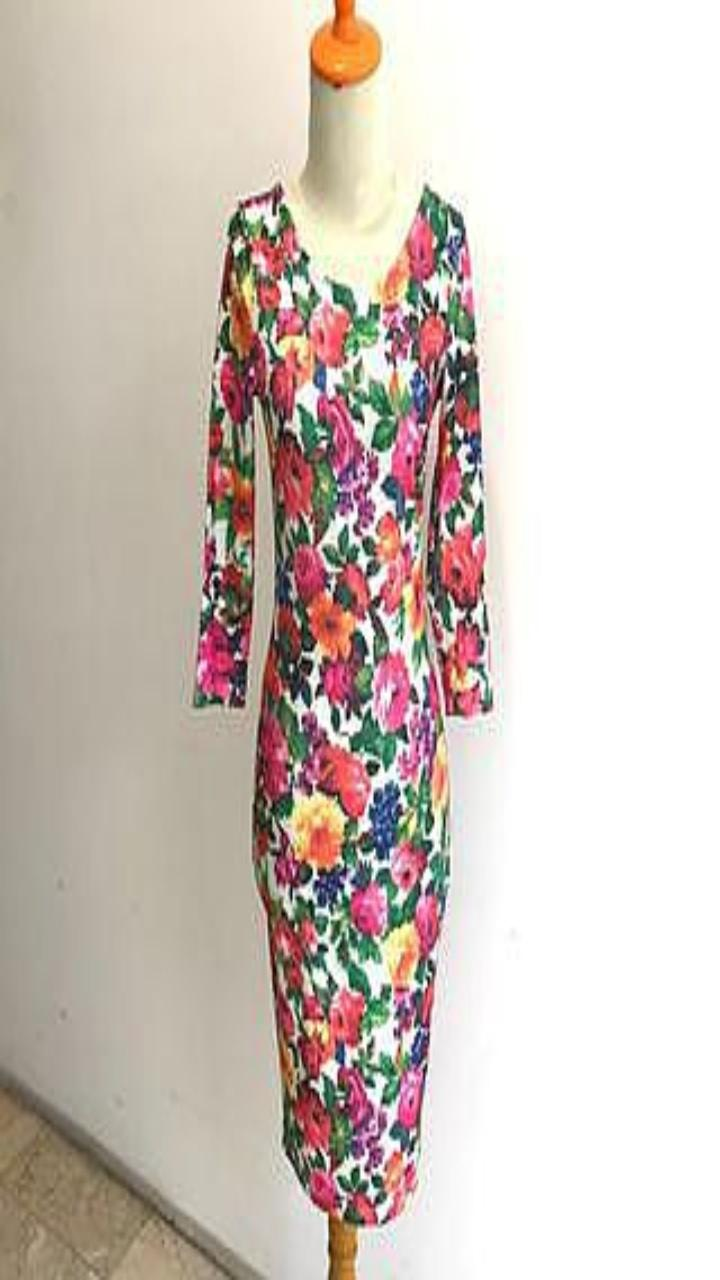Dresses: (193, 181, 492, 1223)
